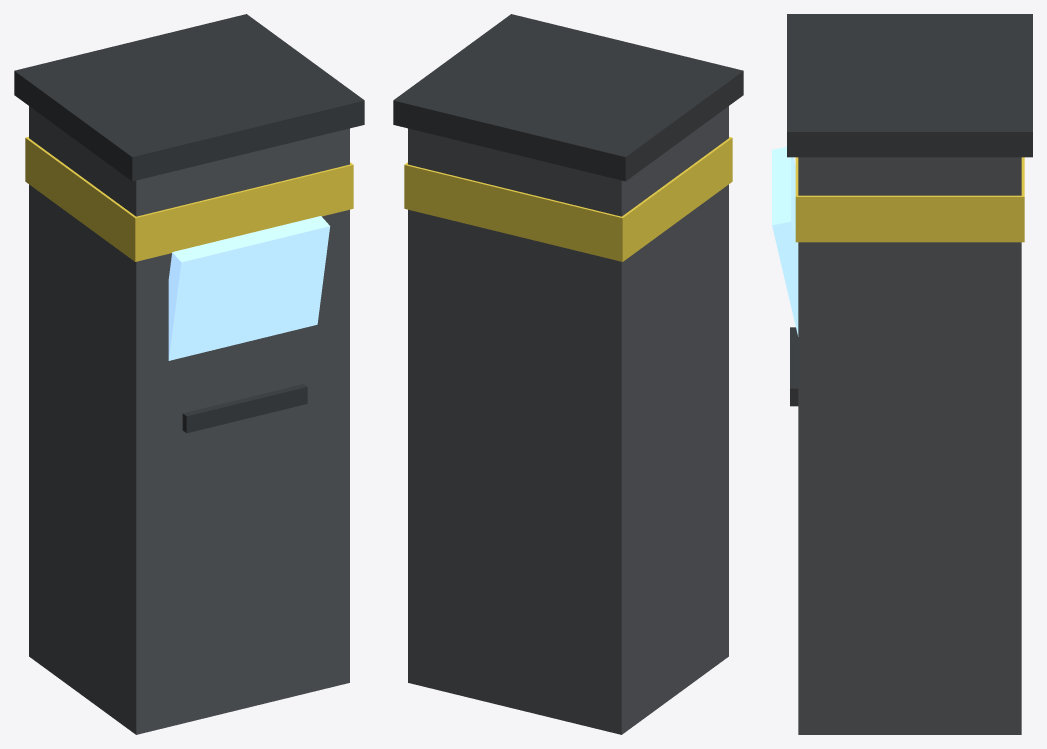
The model's file is ticket_kiosk.glb.
The picture shows the model from 3 angles, left to right: view 1: azimuth 30°, elevation 25°; view 2: azimuth 150°, elevation 25°; view 3: azimuth 270°, elevation 25°; orthographic projection. The views are drawn at different scales.
Visible parts, largest first — view 1: ticket_kiosk; view 2: ticket_kiosk; view 3: ticket_kiosk.
Part boxes in pixels (x1=…): ticket_kiosk: x1=14, y1=14, x2=364, y2=734; ticket_kiosk: x1=393, y1=14, x2=743, y2=734; ticket_kiosk: x1=772, y1=14, x2=1032, y2=734.
Bounding box in the file's own units: 0.5 × 1.2 × 0.4671.
